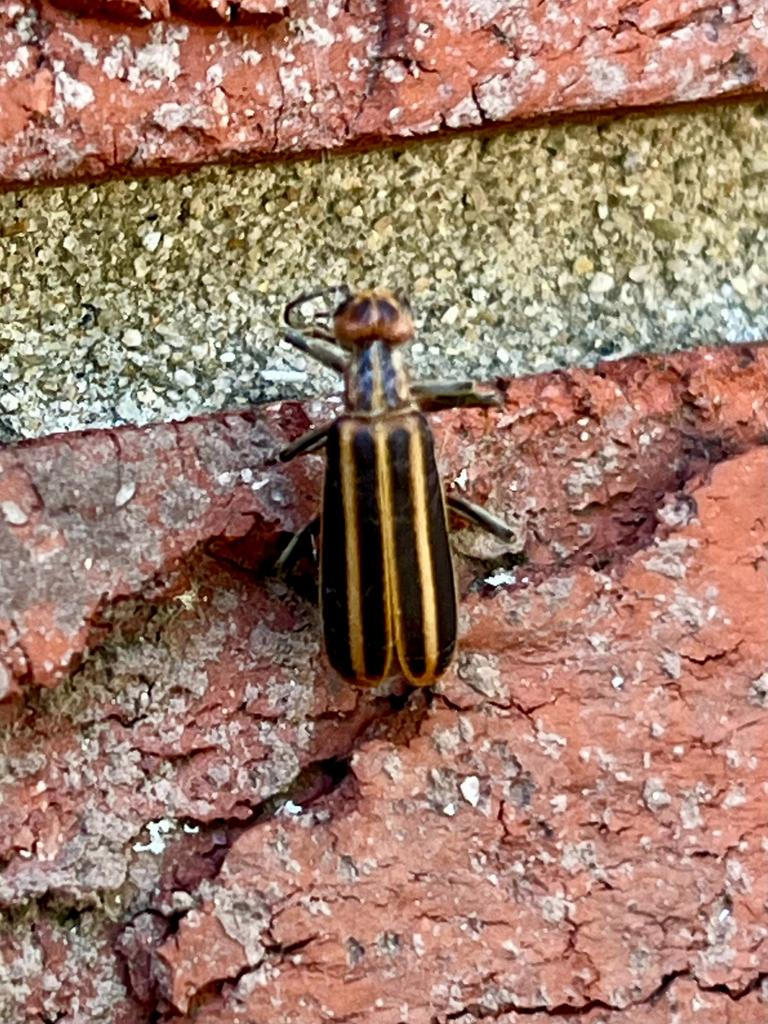blister_beetle: (179, 230, 589, 733)
